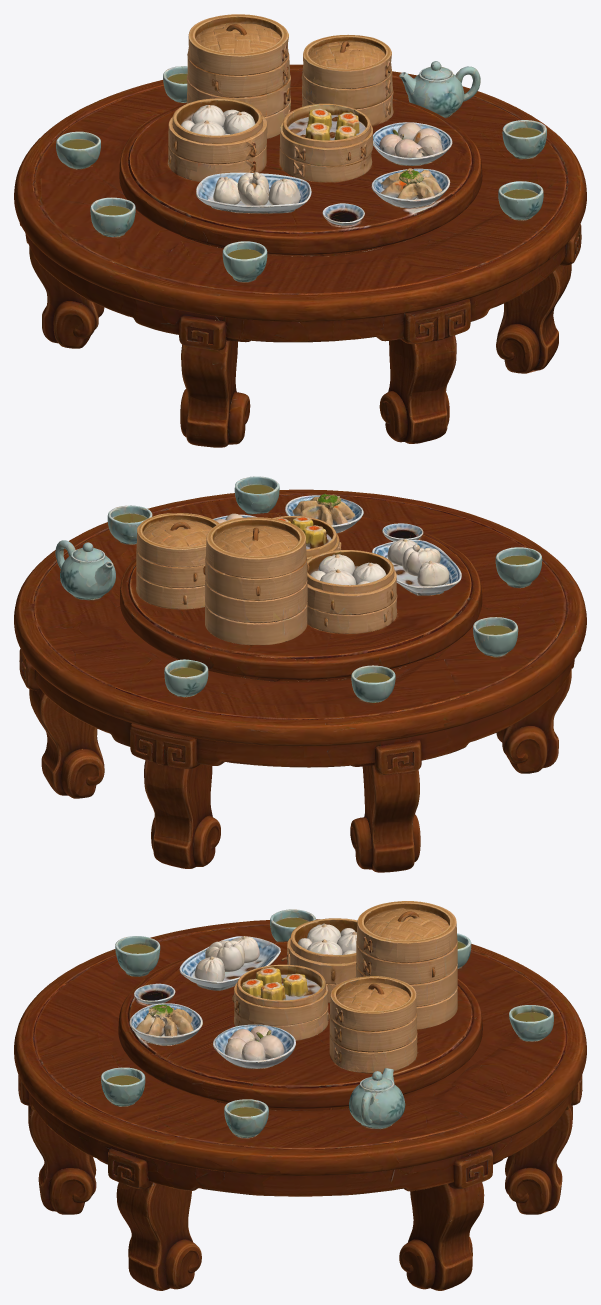
File: center.glb
3 renders of one model, top to bottom at view 1: azimuth 30°, elevation 25°; view 2: azimuth 150°, elevation 25°; view 3: azimuth 270°, elevation 25°, orthographic.
Parts seen in each view (by area): view 1: Mesh_0; view 2: Mesh_0; view 3: Mesh_0.
Part boxes in pixels (x1,y1,x2,y2): Mesh_0: (14,14,586,447); Mesh_0: (14,476,586,872); Mesh_0: (14,901,586,1290).
Bounding box in the file's own units: 1.9 × 1.05 × 1.9.
1 material, 1 textured.
